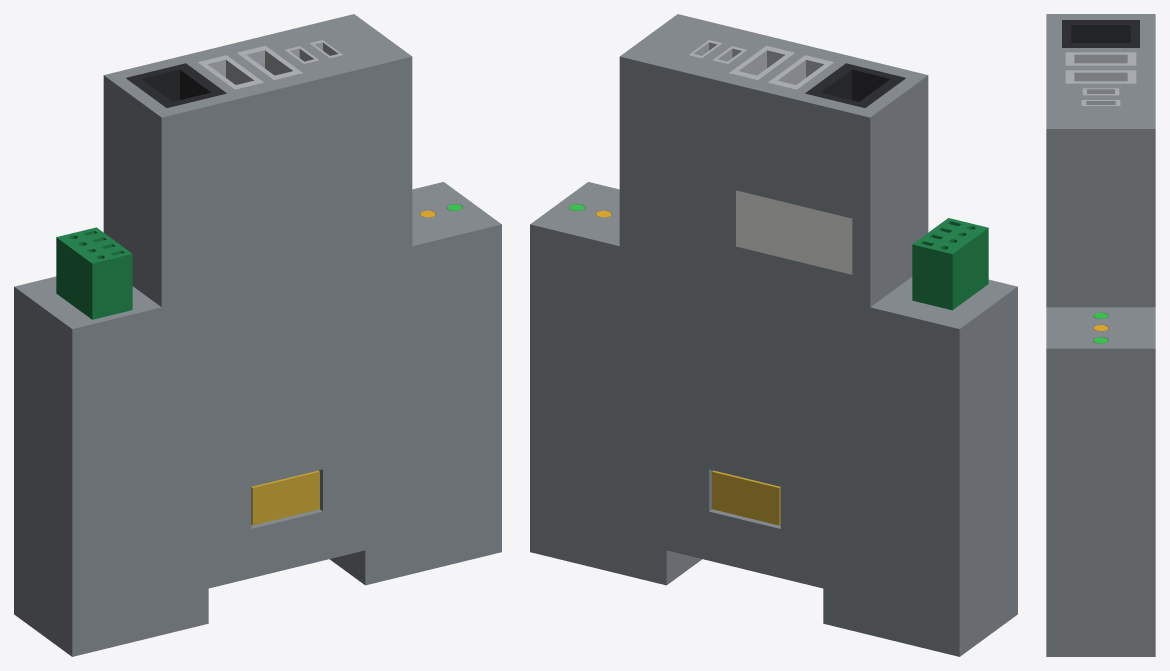
File: revpi_core.glb
3 renders of one model, left to right at view 1: azimuth 30°, elevation 25°; view 2: azimuth 150°, elevation 25°; view 3: azimuth 270°, elevation 25°, orthographic. The views are drawn at different scales.
Parts seen in each view (by area): view 1: housing, supply_plug_x4, pibridge_left, rj45, usb_a_2, usb_a_1; view 2: housing, id_plate, supply_plug_x4, pibridge_right, rj45, usb_a_2, usb_a_1; view 3: housing, rj45, usb_a_1, usb_a_2, micro_hdmi, micro_usb.
Part boxes in pixels (x1,y1,x2,y2): housing: (14, 14, 501, 656); supply_plug_x4: (56, 227, 132, 319); pibridge_left: (251, 470, 319, 525); rj45: (126, 63, 226, 107); usb_a_2: (237, 45, 302, 79); usb_a_1: (198, 55, 263, 89); housing: (530, 14, 1017, 656); id_plate: (736, 190, 852, 274); supply_plug_x4: (912, 218, 988, 310); pibridge_right: (712, 470, 780, 525); rj45: (805, 63, 905, 107); usb_a_2: (729, 45, 794, 79); usb_a_1: (768, 55, 833, 89); housing: (1046, 14, 1155, 656); rj45: (1062, 20, 1139, 47); usb_a_1: (1065, 52, 1136, 65); usb_a_2: (1065, 70, 1136, 83); micro_hdmi: (1082, 88, 1119, 95); micro_usb: (1081, 100, 1120, 105).
Bounding box in the file's own units: 0.096 × 0.1105 × 0.0225.
